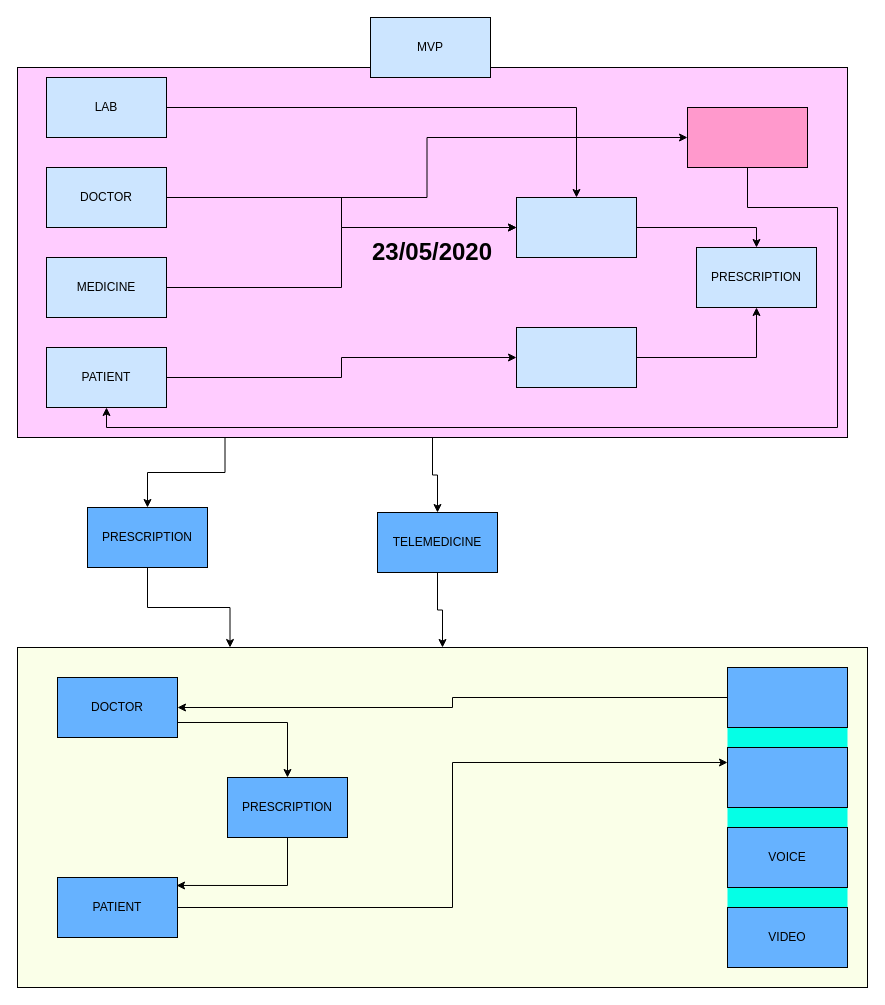
Image size: 885x1005. Some labels were removed from this diagram. Here are the shapes that lost their labels. From the top down, the centre of each, then its label:
At (747,137): "APPOINTMENT".
At (576,227): "WRITE".
At (576,357): "READ".
At (787,697): "COMMUNICATION".
At (787,777): "CHAT".
